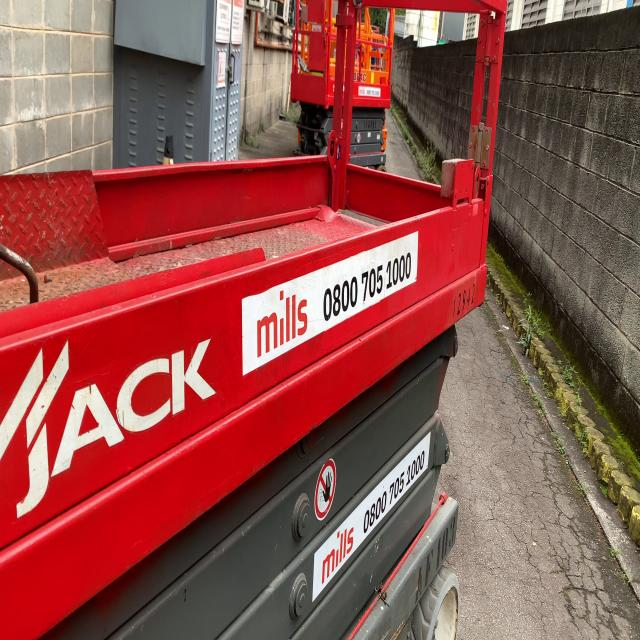Adesivo Longo: (241, 228, 419, 381), (311, 429, 431, 605)
